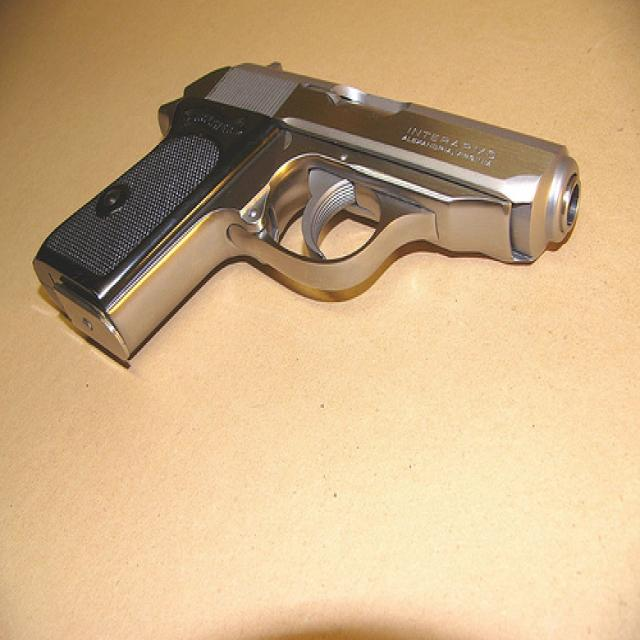gun: (30, 58, 582, 365)
